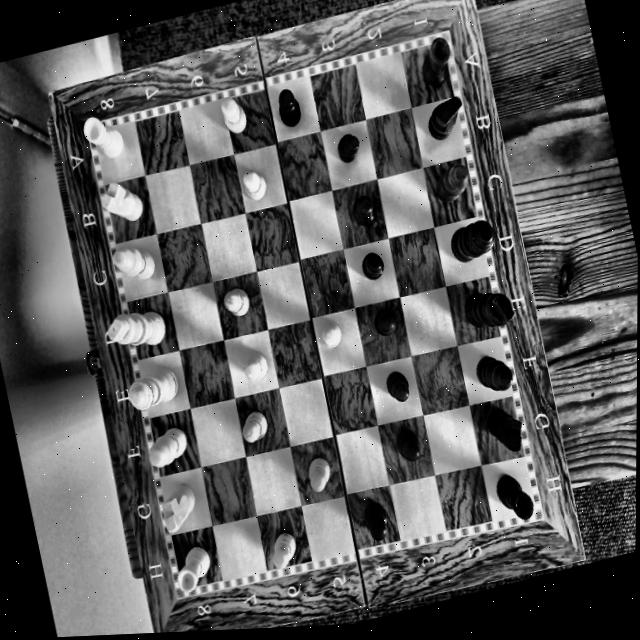black-bishop: (463, 341, 524, 403), (424, 148, 484, 211)
black-king: (455, 275, 526, 343)
black-knight: (475, 396, 535, 461), (414, 86, 472, 146)
black-pawn: (322, 120, 370, 179), (374, 355, 418, 419), (351, 489, 397, 549), (263, 81, 310, 139), (362, 298, 407, 354), (382, 418, 427, 472), (340, 184, 385, 238), (348, 242, 394, 294)
black-queen: (437, 210, 507, 272)
black-rook: (486, 458, 544, 530), (410, 27, 464, 92)
white-bishop: (134, 419, 198, 479), (104, 233, 161, 290)
white-king: (94, 298, 175, 366)
white-knight: (92, 165, 151, 236), (148, 474, 207, 542)
white-pawn: (207, 80, 264, 147), (309, 309, 358, 368), (259, 519, 309, 576), (215, 276, 263, 331), (233, 157, 279, 213), (235, 401, 279, 454), (298, 444, 340, 498), (233, 341, 275, 394)
white-queen: (119, 355, 189, 423)
white-rook: (74, 101, 131, 170), (168, 533, 224, 596)
